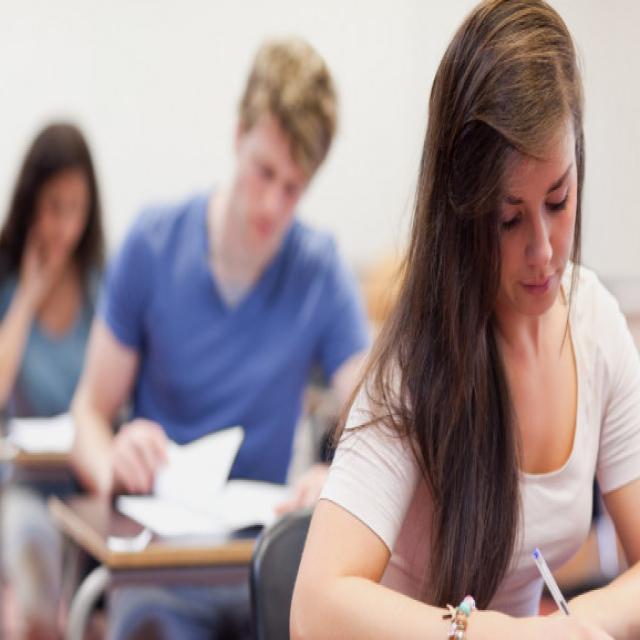good: (279, 0, 640, 640), (52, 17, 392, 548)
